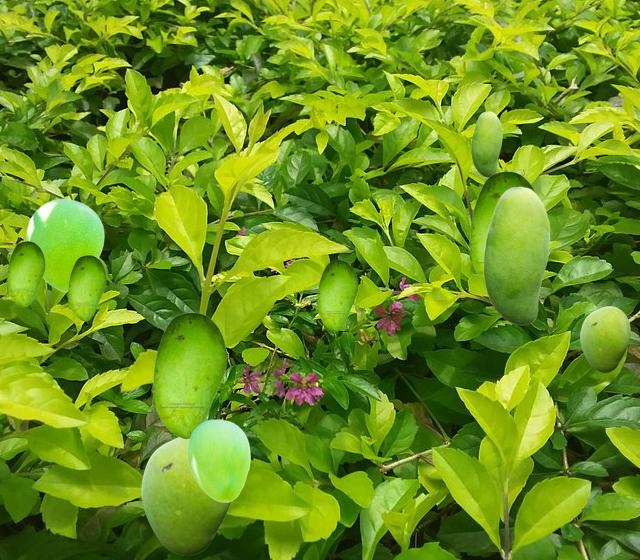green_mango: (141, 437, 231, 554), (151, 312, 226, 438), (483, 186, 549, 324), (468, 171, 536, 283), (26, 198, 103, 291), (187, 419, 249, 501), (580, 306, 629, 371), (316, 260, 357, 330), (6, 241, 44, 306), (67, 255, 105, 320), (471, 111, 501, 176)
